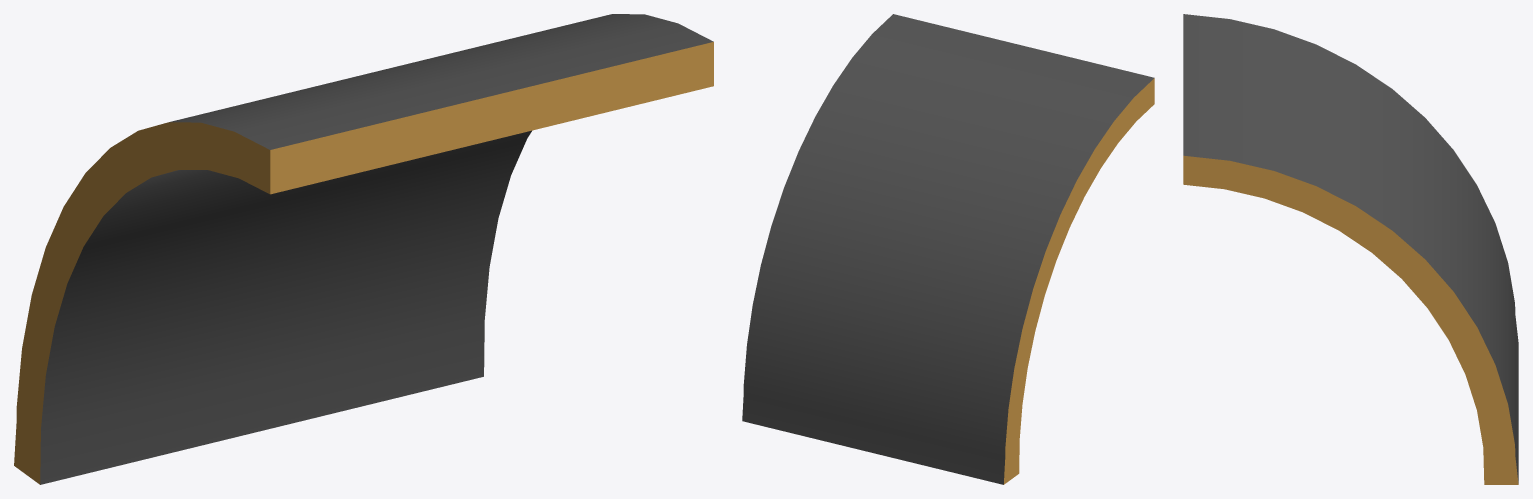
File: Skate_Loop_Quarter_01.FBX
The picture shows the model from 3 angles, left to right: view 1: azimuth 30°, elevation 25°; view 2: azimuth 150°, elevation 25°; view 3: azimuth 270°, elevation 25°; orthographic projection. The views are drawn at different scales.
Parts seen in each view (by area): view 1: Skate_Loop_Quarter_01; view 2: Skate_Loop_Quarter_01; view 3: Skate_Loop_Quarter_01.
Boxes of the visible parts, box(x1,y1,x2,y2) form: Skate_Loop_Quarter_01: box(14, 14, 713, 484); Skate_Loop_Quarter_01: box(742, 14, 1154, 484); Skate_Loop_Quarter_01: box(1183, 14, 1518, 484).
Bounding box in the file's own units: 3 × 3.25 × 3.
